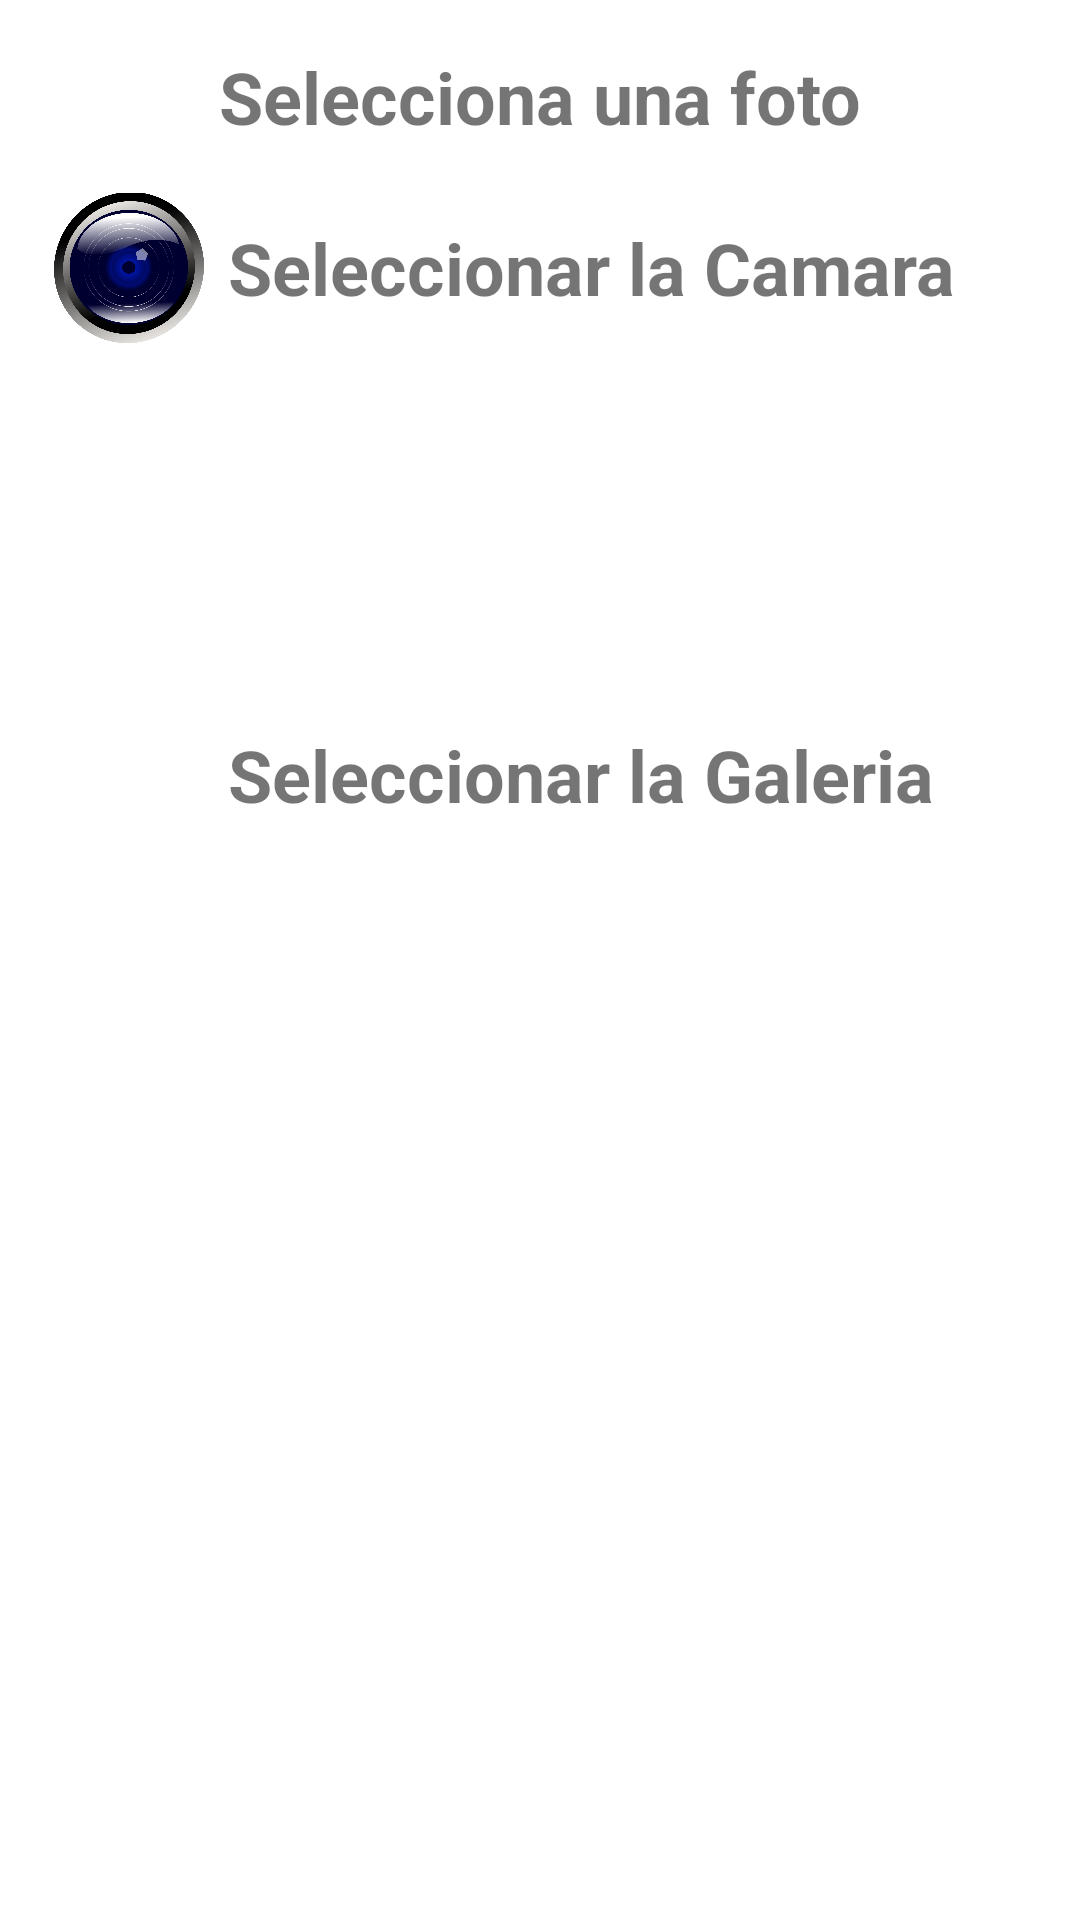

Locate icon controls on the screen. Image size 1080px x 1920px, boxes as (x1, y1, x2, y2).
camareicon: (54, 193, 204, 343)
